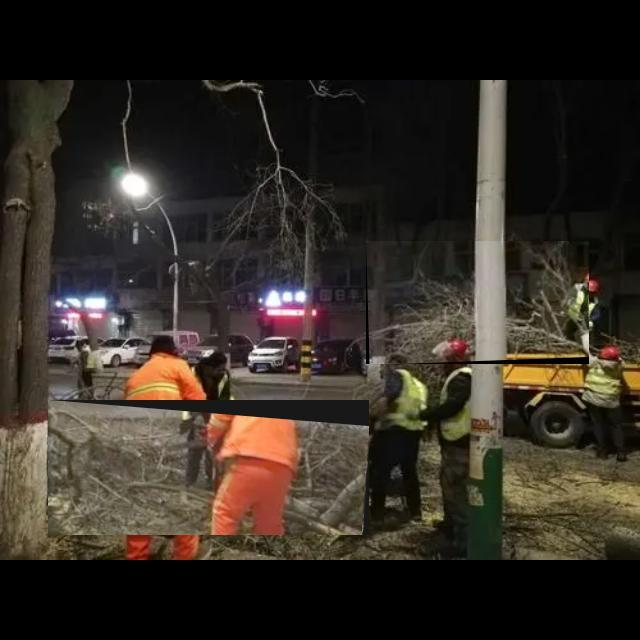fallen_tree: (48, 400, 370, 536), (366, 241, 590, 365)
